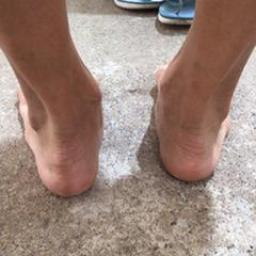Back View -Both Feet-: (3, 56, 250, 202)
